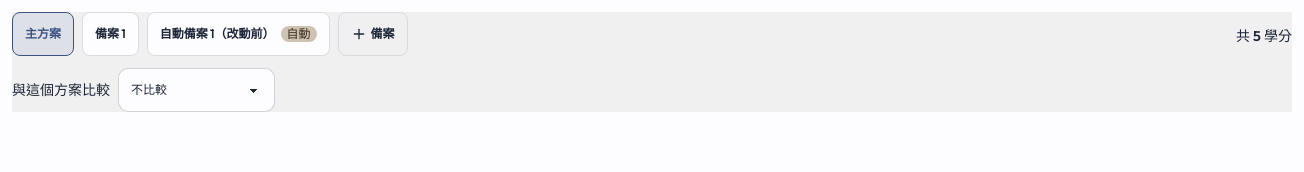
Test case: compares the active plan with another plan
Select "備案 1" in the dropdown labelled "與這個方案比較" at (196, 90), box [118,68,275,112]
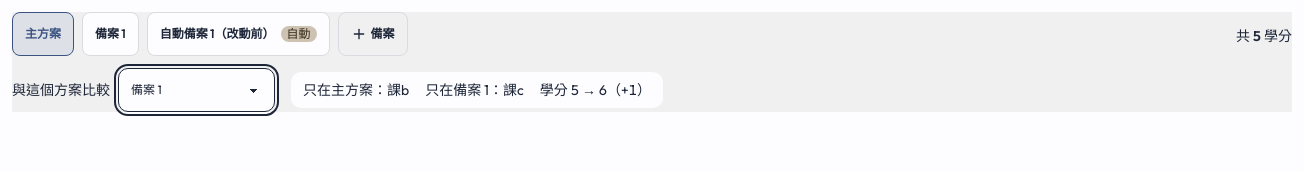
Expected: the element named "方案比較" shows "只在主方案：課b", [291,72,663,108]
Expected: the element named "方案比較" shows "只在備案 1：課c", [291,72,663,108]
Expected: the element named "方案比較" shows "學分 5 → 6（+1）", [291,72,663,108]
